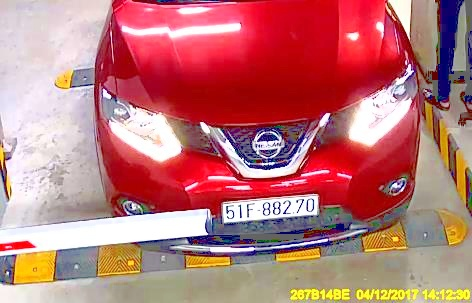plate: (218, 193, 324, 223)
